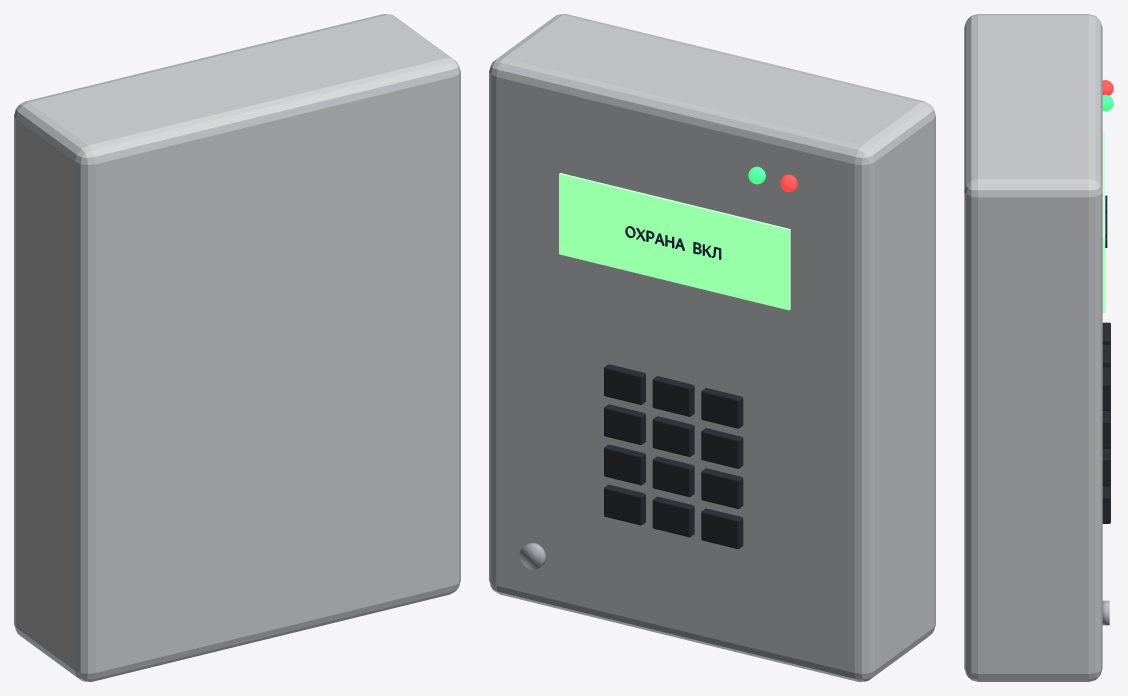
The model's file is alarm-panel.glb.
3 views of the same model, side by side, from view 1: azimuth 30°, elevation 25°; view 2: azimuth 150°, elevation 25°; view 3: azimuth 270°, elevation 25° (orthographic). The views are drawn at different scales.
Parts seen in each view (by area): view 1: body; view 2: body; view 3: body.
Part boxes in pixels (x1=…): body: x1=14, y1=14, x2=460, y2=681; body: x1=489, y1=14, x2=935, y2=681; body: x1=964, y1=14, x2=1113, y2=681.
Bounding box in the file's own units: 0.3 × 0.4 × 0.108.
